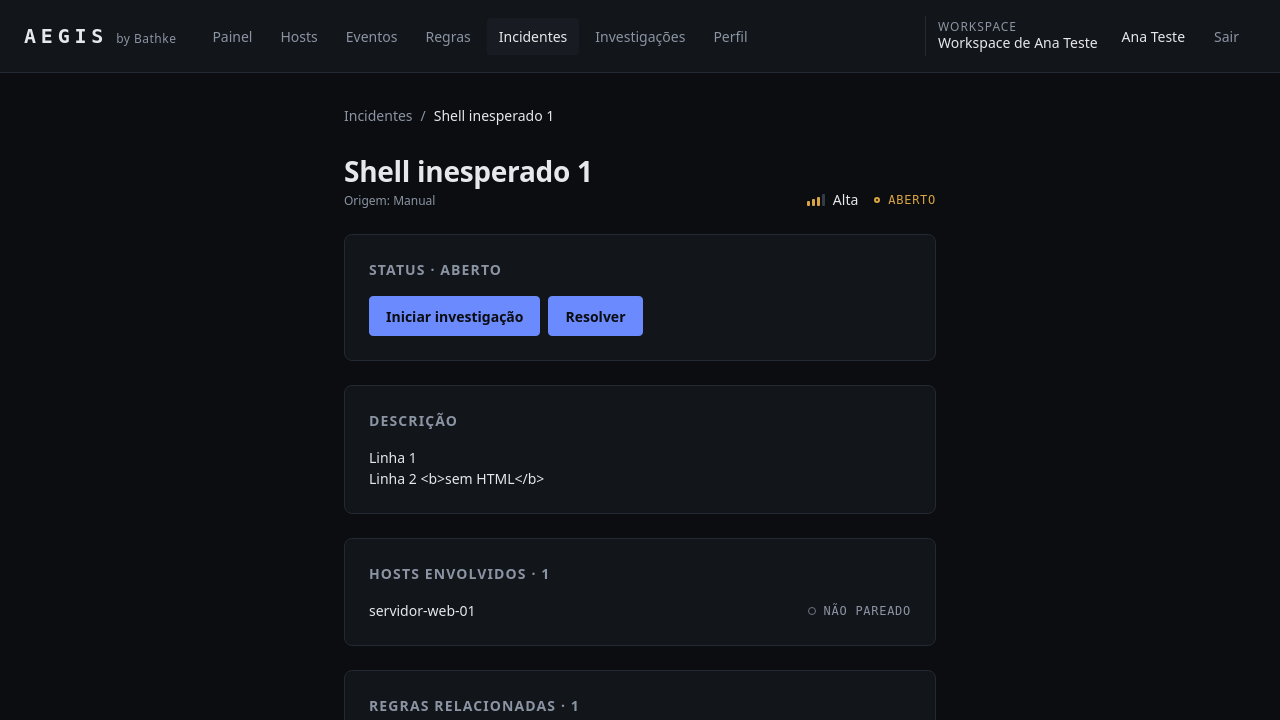
incident detail and lifecycle › offers only the transitions reported by the API and sends them through PUT
Click the button "Iniciar investigação" at (455, 316), box [369,296,540,336]
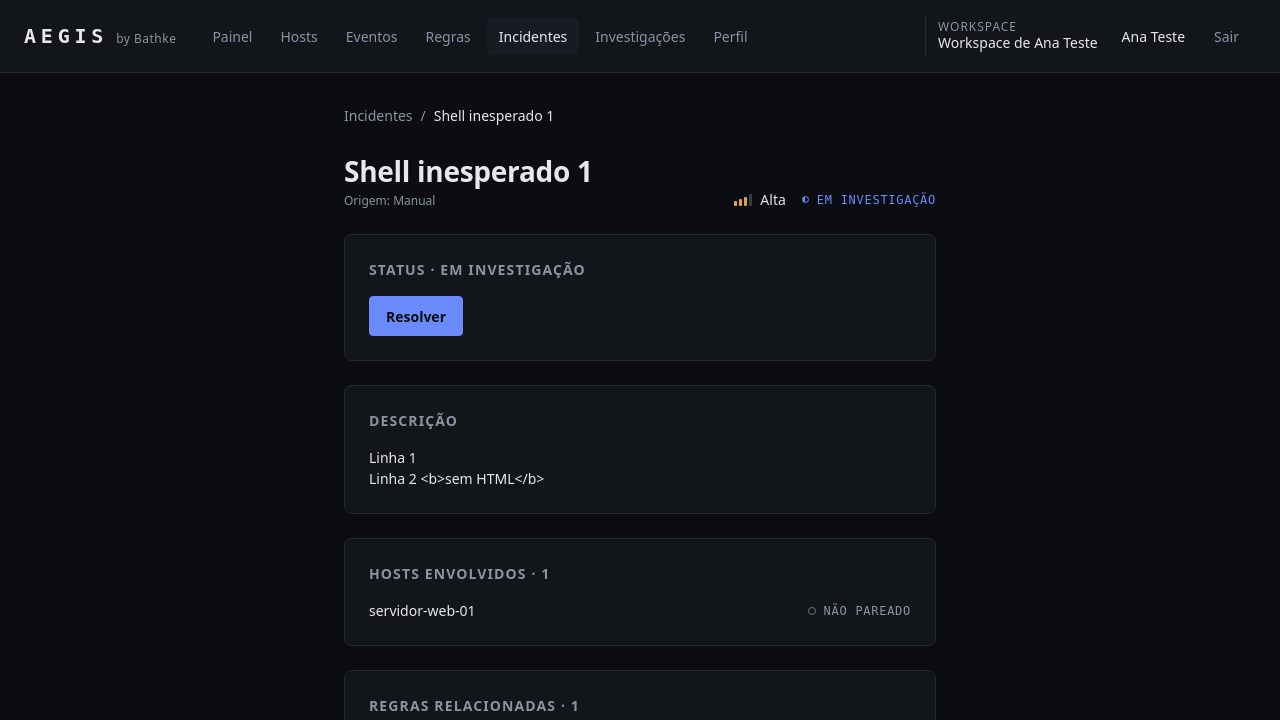
expect the buttons read "Resolver", in this order: met, box [369,296,463,336]
